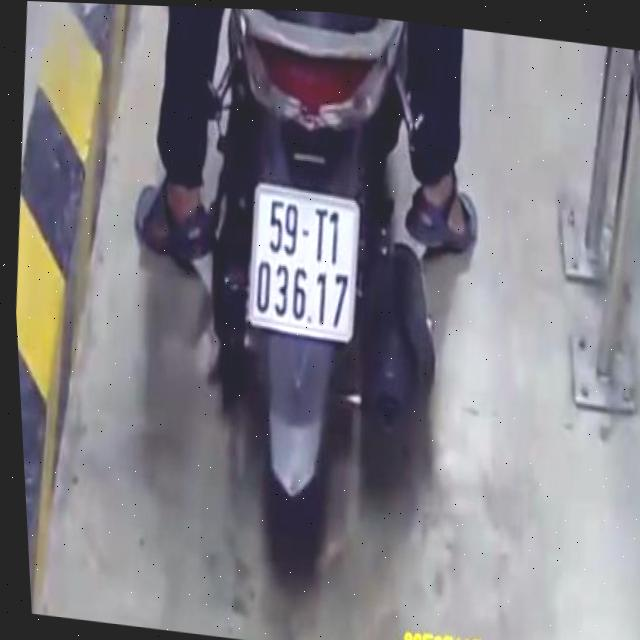motorcycle: (148, 5, 485, 593)
plate: (230, 174, 371, 350)
